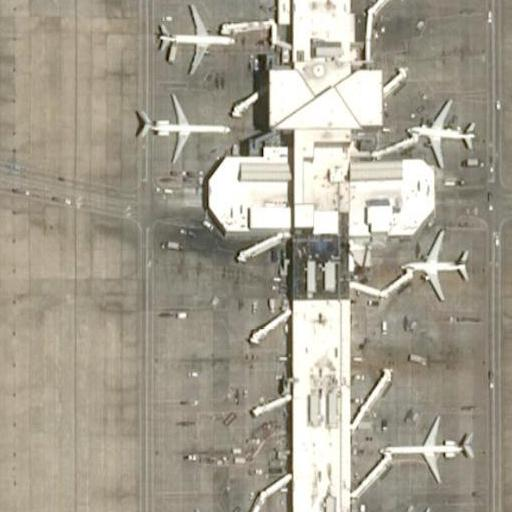Aircraft: (129, 86, 228, 161), (379, 410, 471, 483), (393, 223, 479, 300), (152, 2, 234, 76), (405, 93, 477, 164), (360, 502, 464, 512), (153, 505, 258, 512)
